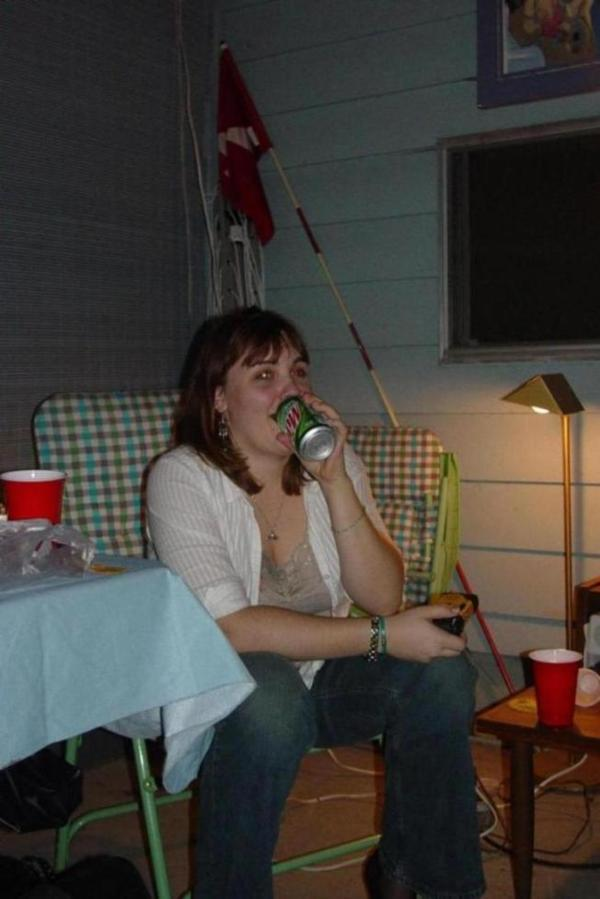person: (145, 307, 488, 899)
